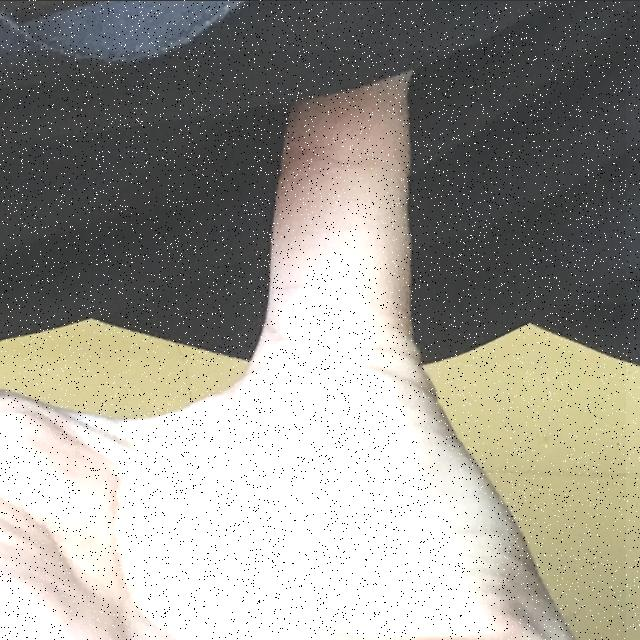mendengar: (0, 50, 626, 640)
